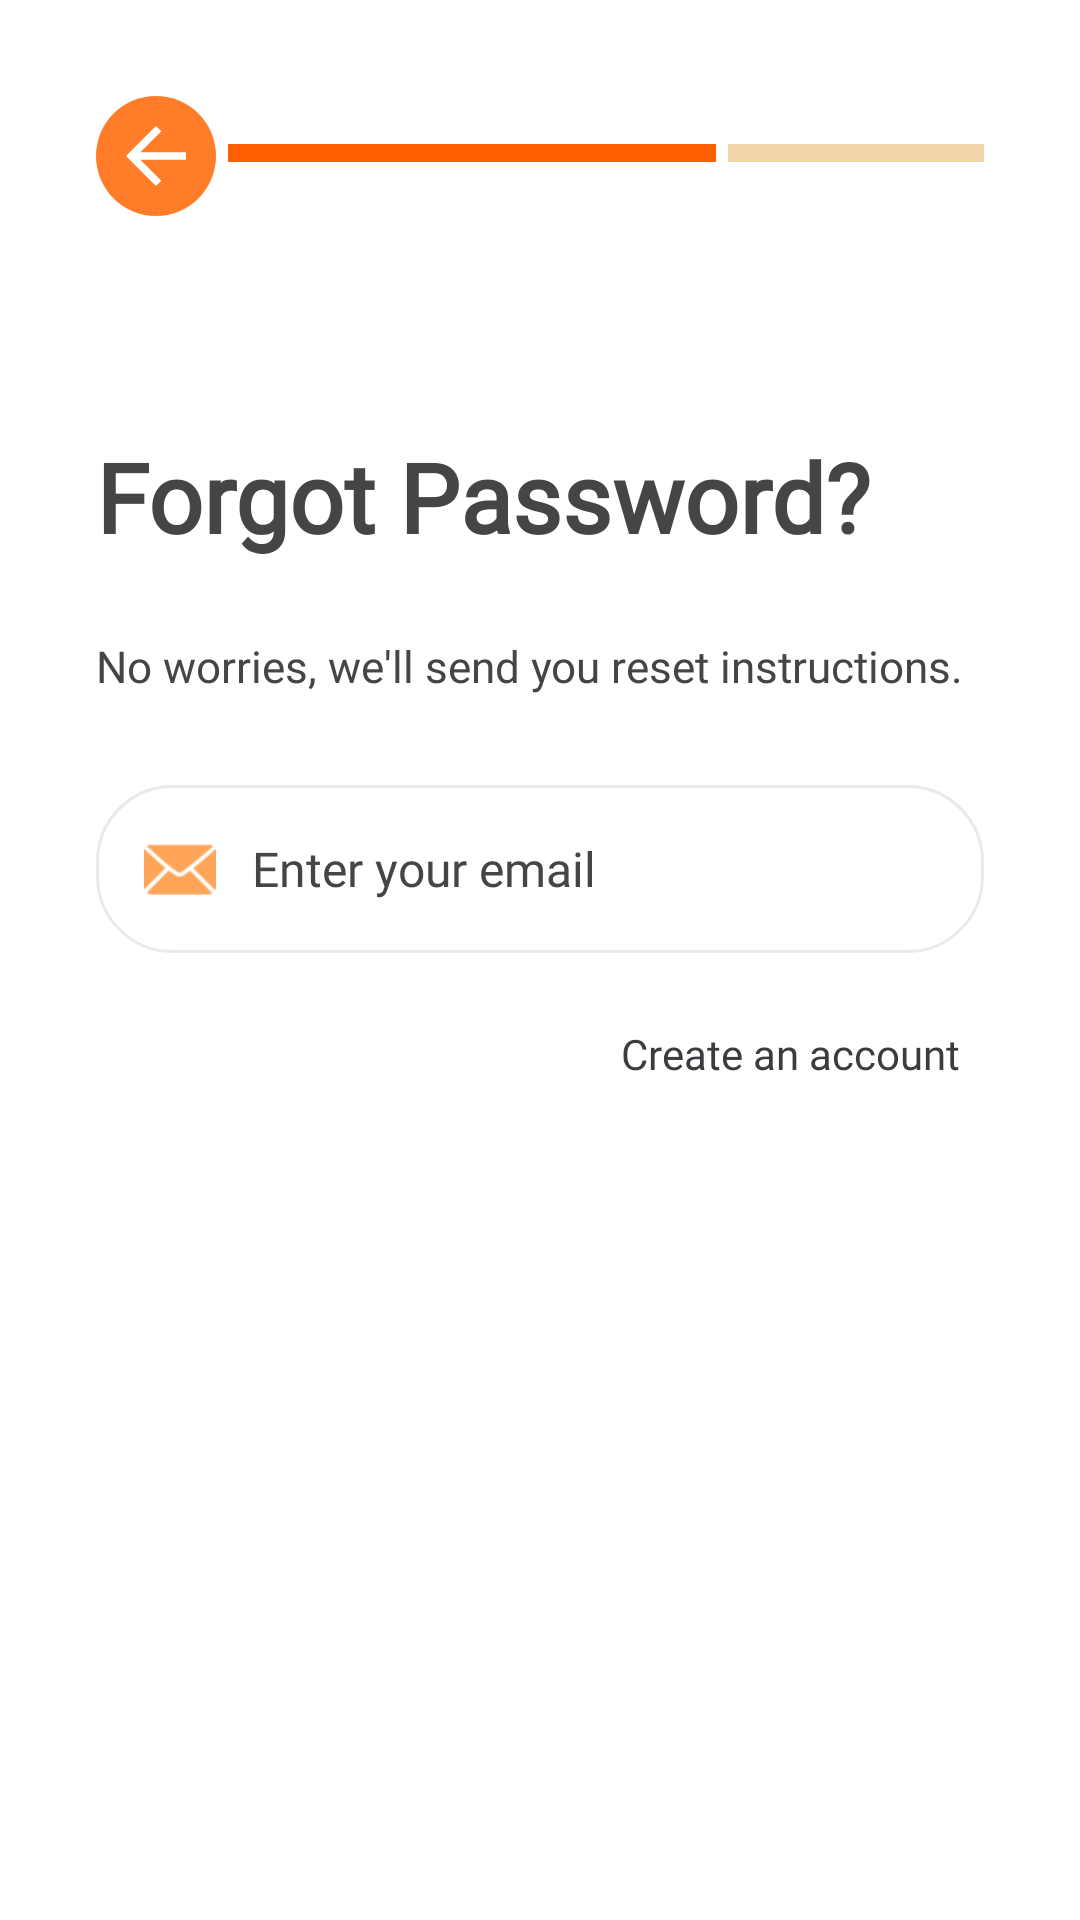

Locate icon controls on the screen. Image size 1080*1920, boxes as (x1, y1, x2, y2).
Go back: (96, 96, 216, 216)
